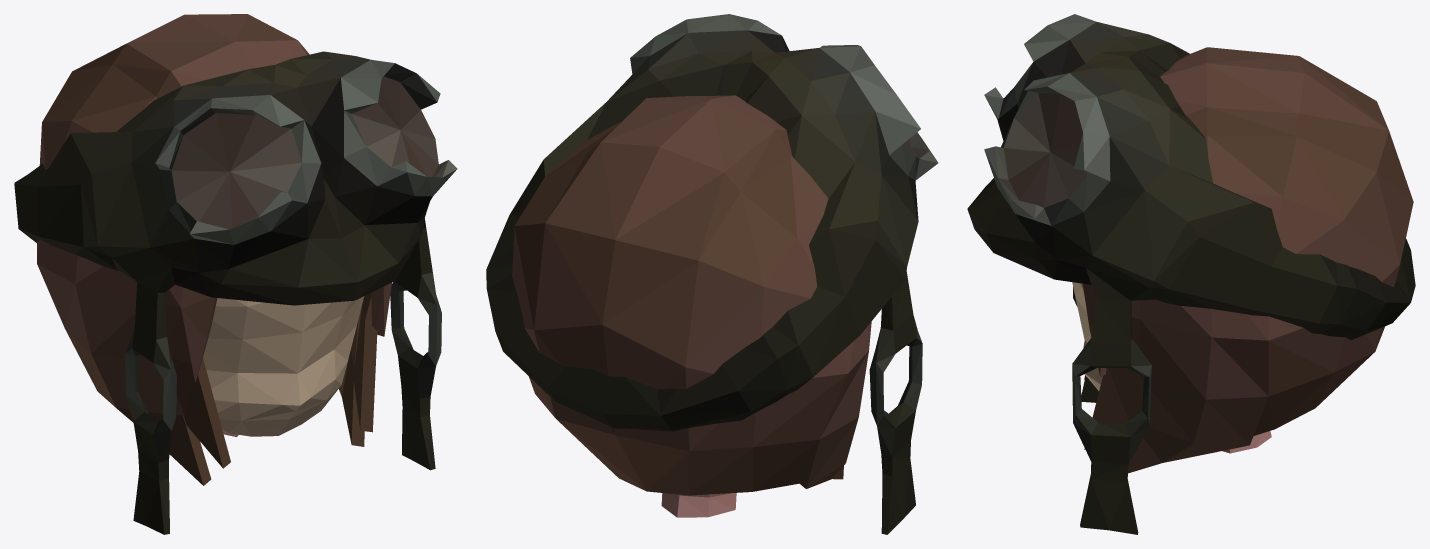
The model's file is helm_lightskin_bob_brown_goggles.fbx.
The picture shows the model from 3 angles, left to right: view 1: azimuth 30°, elevation 25°; view 2: azimuth 150°, elevation 25°; view 3: azimuth 270°, elevation 25°; orthographic projection. The views are drawn at different scales.
Visible parts, largest first — view 1: helm_lightskin_bob_brown_goggles; view 2: helm_lightskin_bob_brown_goggles; view 3: helm_lightskin_bob_brown_goggles.
Boxes of the visible parts, x1,y1,x2,y2 form: helm_lightskin_bob_brown_goggles: (14, 14, 457, 534); helm_lightskin_bob_brown_goggles: (486, 14, 938, 534); helm_lightskin_bob_brown_goggles: (967, 14, 1415, 534).
Bounding box in the file's own units: 1.22 × 1.45 × 1.42.
